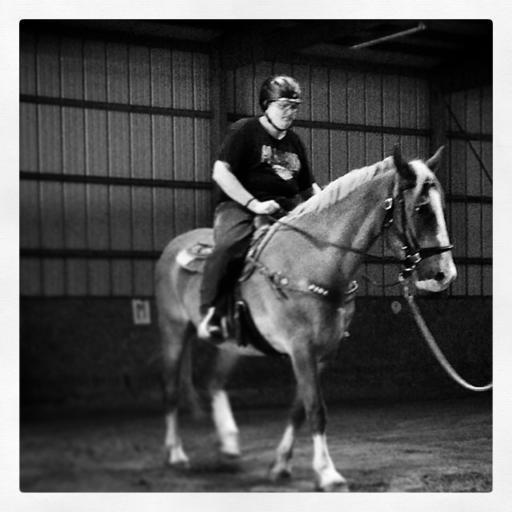horse: (152, 140, 458, 491)
